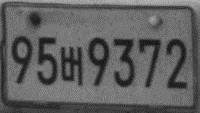2: (165, 36, 188, 89)
3: (112, 38, 135, 87)
5: (36, 36, 57, 85)
7: (138, 38, 160, 87)
9: (87, 36, 110, 87), (10, 35, 33, 83)
버: (60, 45, 83, 86)
